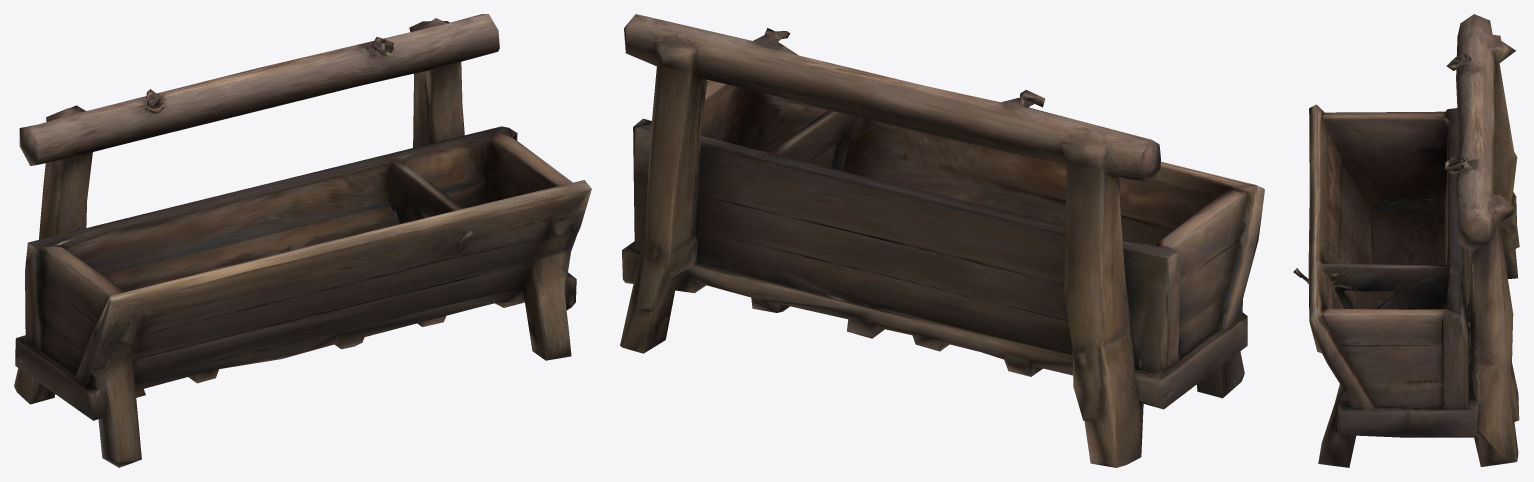
The model's file is trog.glb.
The picture shows the model from 3 angles, left to right: view 1: azimuth 30°, elevation 25°; view 2: azimuth 150°, elevation 25°; view 3: azimuth 270°, elevation 25°; orthographic projection. The views are drawn at different scales.
Size of the model in its own units: 2 by 1.17 by 0.8985.
Materials: 1 (1 with a texture image).
